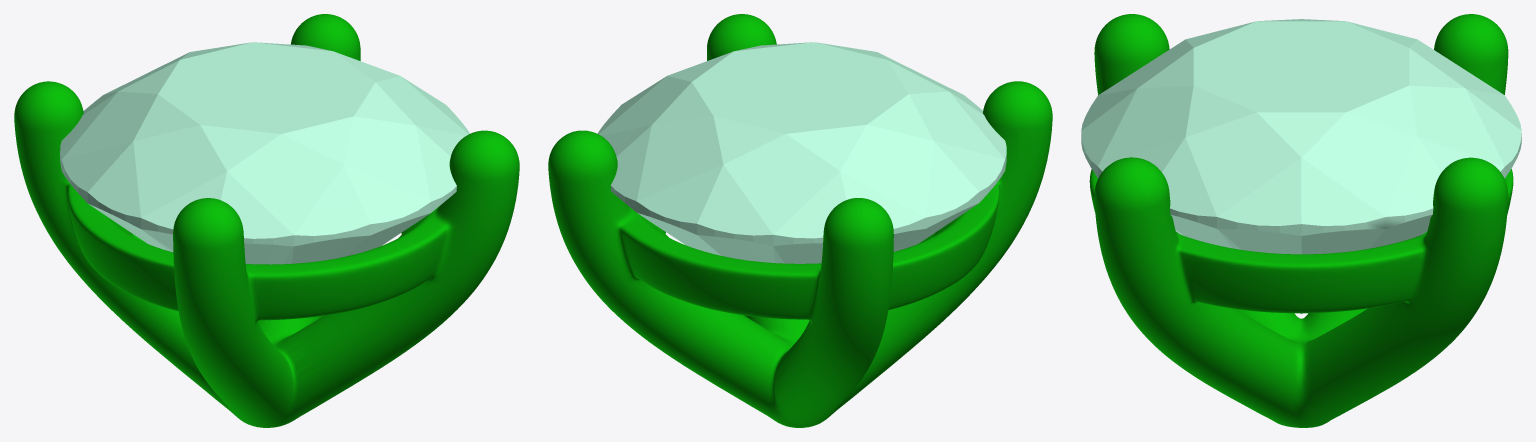
The picture shows the model from 3 angles, left to right: view 1: azimuth 30°, elevation 25°; view 2: azimuth 150°, elevation 25°; view 3: azimuth 270°, elevation 25°; orthographic projection. The views are drawn at different scales.
Parts seen in each view (by area): view 1: Metal01, CS_Diamond; view 2: Metal01, CS_Diamond; view 3: CS_Diamond, Metal01.
Boxes of the visible parts, x1=… form: Metal01: x1=14, y1=14, x2=519, y2=427; CS_Diamond: x1=60, y1=42, x2=469, y2=320; Metal01: x1=548, y1=14, x2=1052, y2=427; CS_Diamond: x1=597, y1=42, x2=1006, y2=319; CS_Diamond: x1=1081, y1=19, x2=1521, y2=313; Metal01: x1=1089, y1=14, x2=1513, y2=427.
Bounding box in the file's own units: 7.45 × 6.59 × 7.45.
